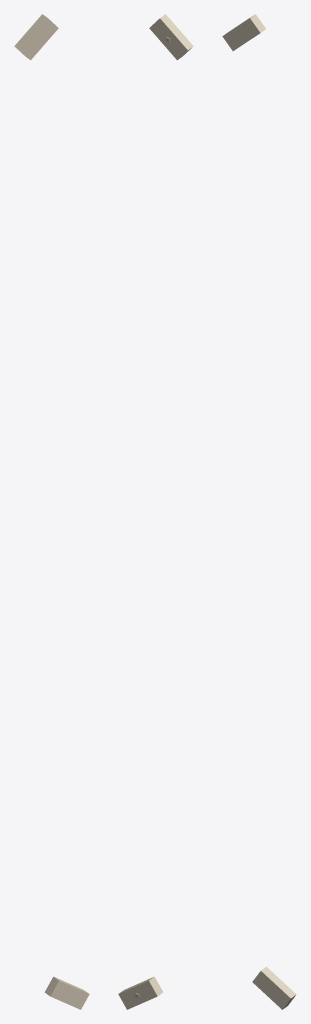
The model's file is historic-palestine-16_33_3576_3278.glb.
3 views of the same model, side by side, from view 1: azimuth 30°, elevation 25°; view 2: azimuth 150°, elevation 25°; view 3: azimuth 330°, elevation 25° (orthographic).
Parts seen in each view (by area): view 1: Building_, Building_.001; view 2: Building_, Building_.001; view 3: Building_.001, Building_.
Boxes of the visible parts, bbox=[...] form: Building_: bbox=[14, 14, 58, 60]; Building_.001: bbox=[44, 976, 89, 1009]; Building_: bbox=[149, 14, 193, 60]; Building_.001: bbox=[118, 976, 163, 1009]; Building_.001: bbox=[252, 966, 296, 1009]; Building_: bbox=[222, 14, 265, 50].
Size of the model in its own units: 52.83 by 724 by 8.7.
